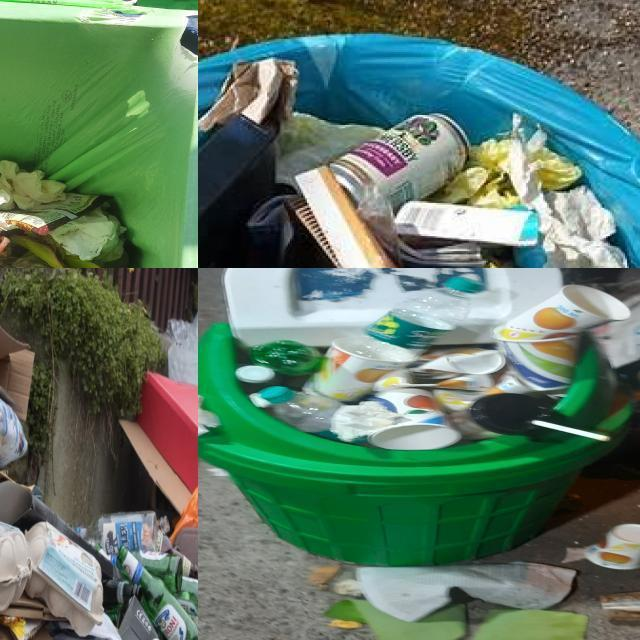Disposable: (445, 393, 563, 440)
Garbage: (198, 46, 640, 268), (214, 285, 640, 451), (0, 395, 198, 640)
Glass_bottle: (117, 545, 198, 640), (79, 511, 156, 558), (133, 549, 183, 595), (103, 578, 142, 609), (175, 576, 198, 617)
Metal: (12, 252, 50, 268)
Plastic: (234, 366, 274, 383)
Plastic_Straw: (529, 420, 609, 442)
Plastic_bottle: (345, 276, 486, 362), (256, 387, 348, 442), (249, 340, 324, 376)
Plastic_wraper: (0, 193, 109, 235), (432, 373, 532, 411), (442, 377, 467, 384), (460, 454, 467, 457)
can: (330, 114, 469, 216)
